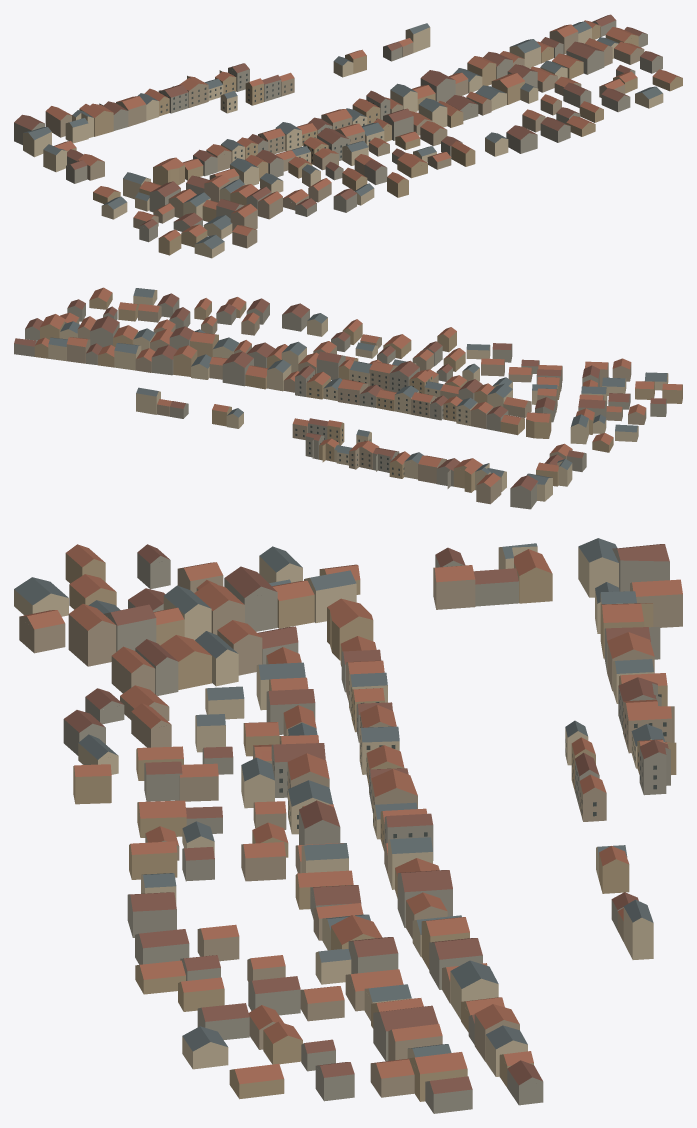
3 views of the same model, one above another, from view 1: azimuth 30°, elevation 25°; view 2: azimuth 150°, elevation 25°; view 3: azimuth 270°, elevation 25° (orthographic). The views are drawn at different scales.
Parts seen in each view (by area): view 1: C_2_-1; view 2: C_2_-1; view 3: C_2_-1.
Boxes of the visible parts, x1,y1,x2,y2 form: C_2_-1: (14, 14, 682, 258); C_2_-1: (14, 287, 682, 509); C_2_-1: (14, 538, 682, 1113).
Size of the model in its own units: 371 by 14.4 by 193.
